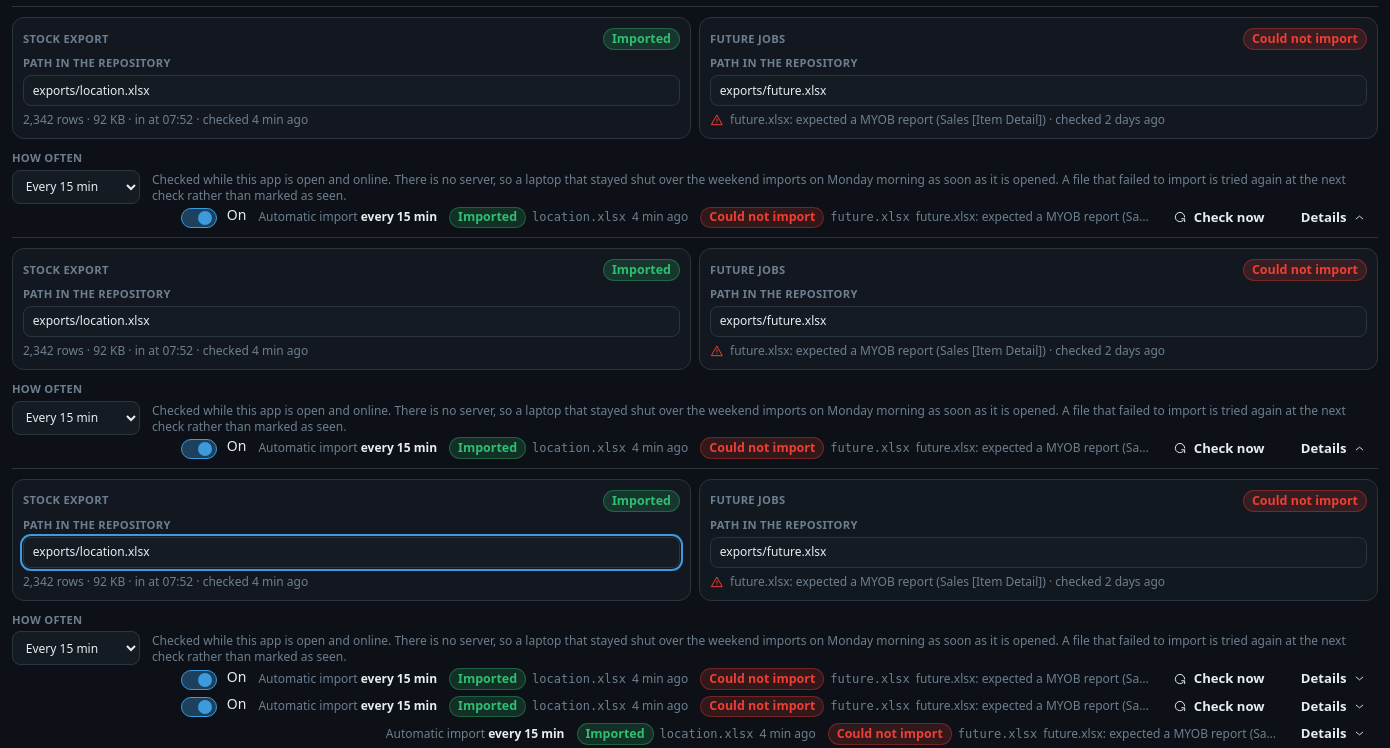
Scenario: the automatic import line › gives a viewer the answer and nothing to change
The width and height of the screenshot is (1390, 748).
Expected: the 9th text "Imported" is shown, top-left (576, 723), bottom-right (654, 745)
Click the 6th button "Details" at (1333, 734), box top-left (1289, 720), bottom-right (1378, 747)
(page scrolled)
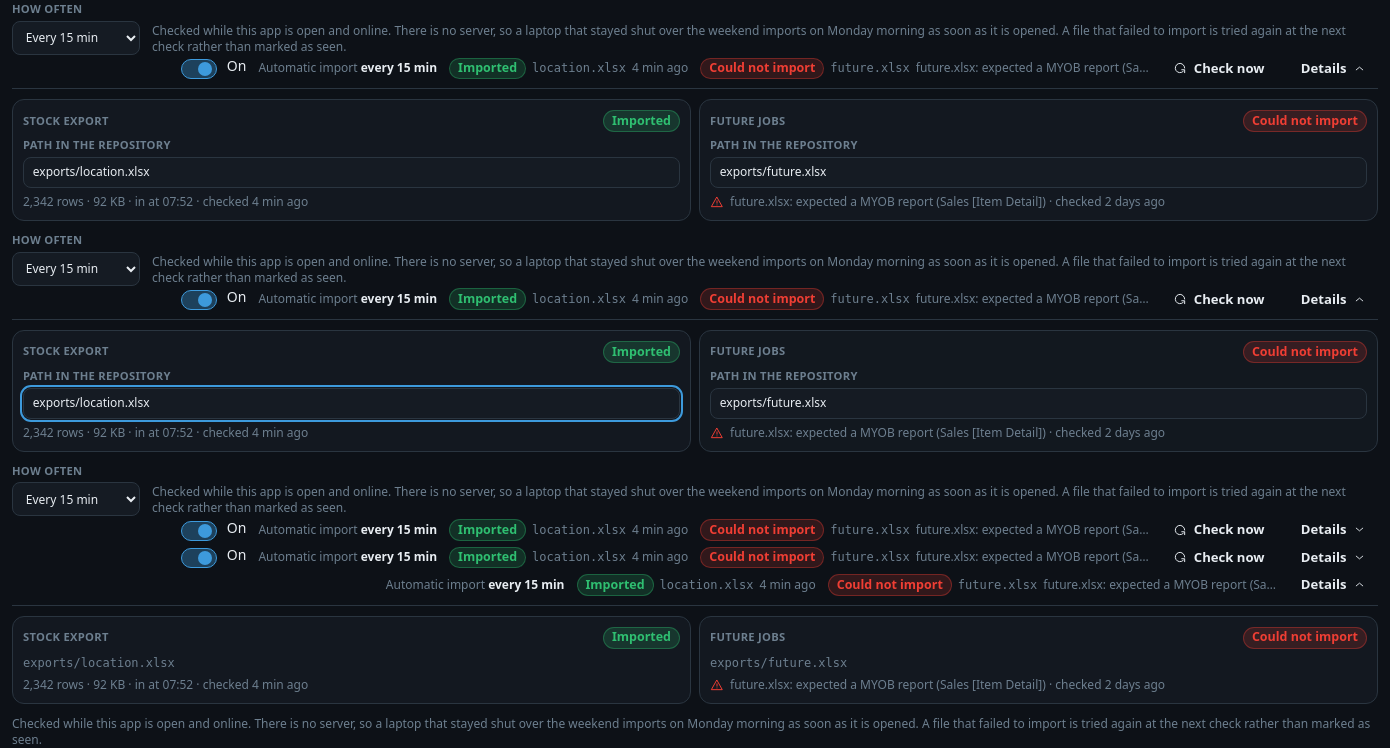
Now the text "exports/location.xlsx" is shown, box top-left (23, 656), bottom-right (175, 670)
